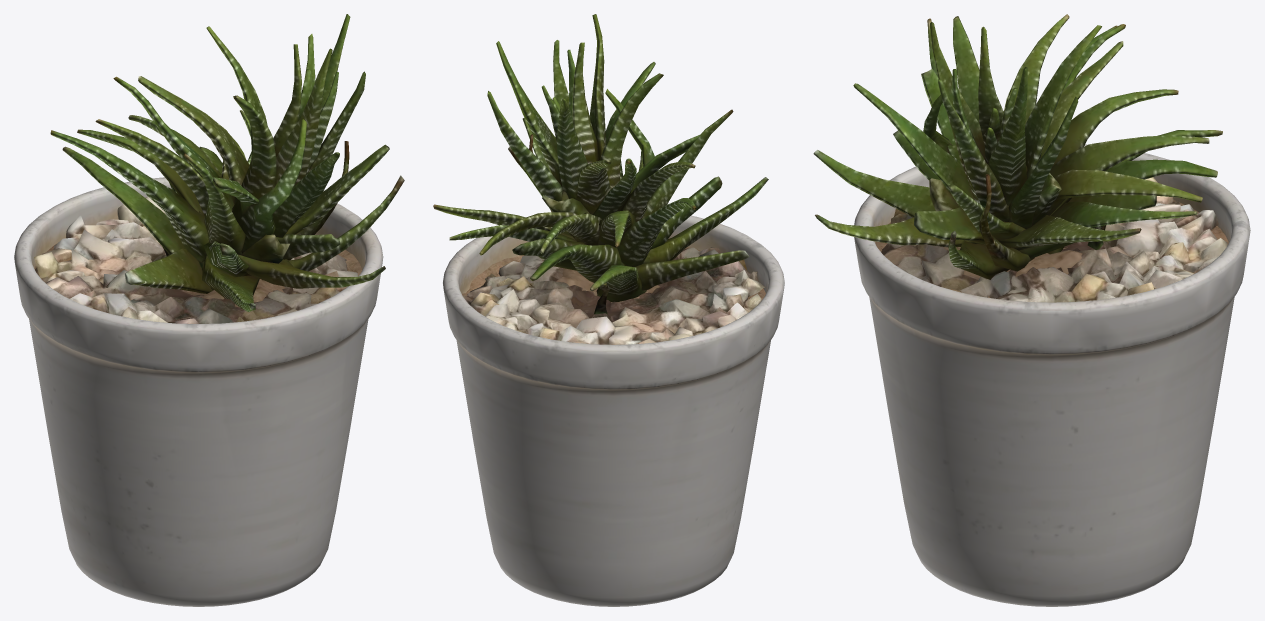
The model's file is pottedPlant.glb.
3 renders of one model, left to right at view 1: azimuth 30°, elevation 25°; view 2: azimuth 150°, elevation 25°; view 3: azimuth 270°, elevation 25°, orthographic. The views are drawn at different scales.
Parts seen in each view (by area): view 1: potted_plant_04_pot, potted_plant_04_plant, potted_plant_04_ground, potted_plant_04_dirt; view 2: potted_plant_04_pot, potted_plant_04_plant, potted_plant_04_ground, potted_plant_04_dirt; view 3: potted_plant_04_pot, potted_plant_04_plant, potted_plant_04_ground, potted_plant_04_dirt.
Boxes of the visible parts, x1=… form: potted_plant_04_pot: x1=14, y1=177, x2=383, y2=606; potted_plant_04_plant: x1=50, y1=14, x2=404, y2=311; potted_plant_04_ground: x1=34, y1=196, x2=357, y2=323; potted_plant_04_dirt: x1=34, y1=238, x2=362, y2=307; potted_plant_04_pot: x1=443, y1=215, x2=784, y2=606; potted_plant_04_plant: x1=433, y1=14, x2=768, y2=314; potted_plant_04_ground: x1=463, y1=247, x2=765, y2=344; potted_plant_04_dirt: x1=462, y1=247, x2=765, y2=306; potted_plant_04_pot: x1=854, y1=144, x2=1250, y2=606; potted_plant_04_plant: x1=813, y1=14, x2=1222, y2=279; potted_plant_04_ground: x1=881, y1=177, x2=1227, y2=302; potted_plant_04_dirt: x1=875, y1=200, x2=1228, y2=297.
Bounding box in the file's own units: 0.1679 × 0.2675 × 0.1848.
Materials: 1 (1 with a texture image).
